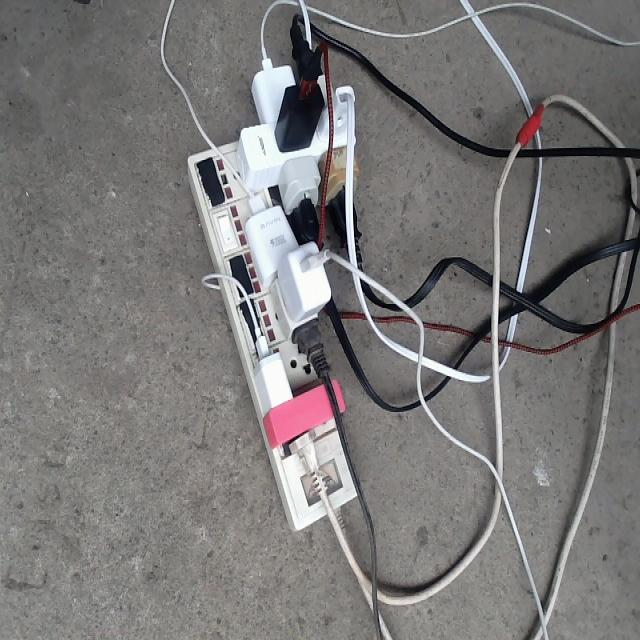-: (184, 59, 360, 529)
